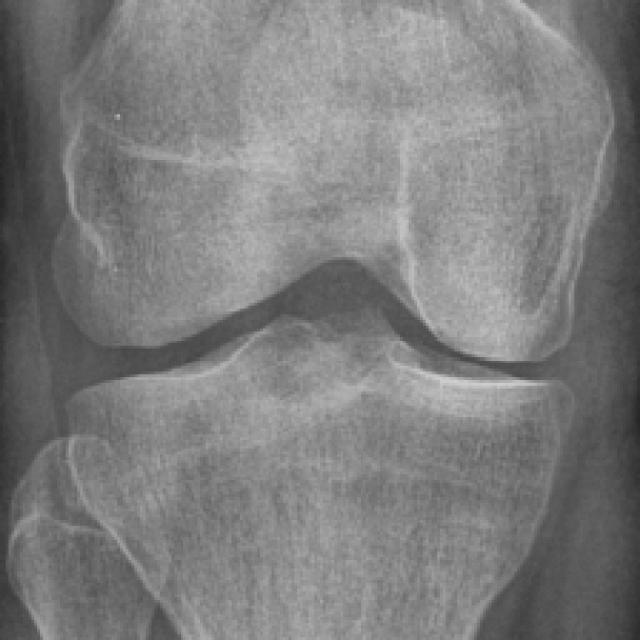femur: (53, 1, 618, 365)
tibia: (68, 311, 581, 640)
